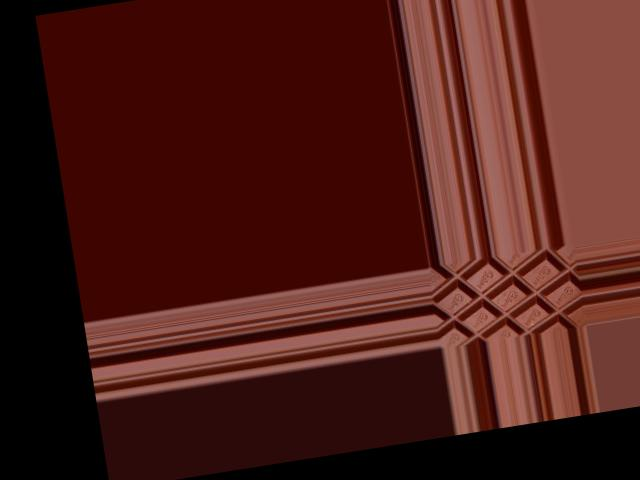chocolate: (431, 243, 586, 345)
